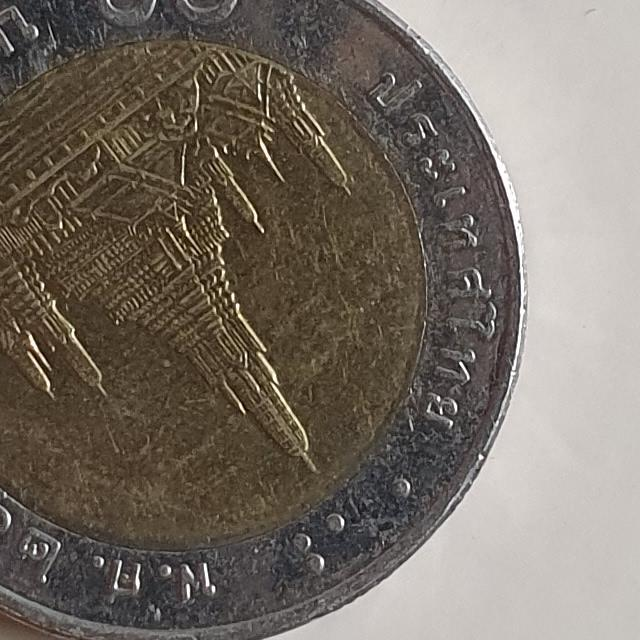10 Bath: (1, 4, 543, 640)
